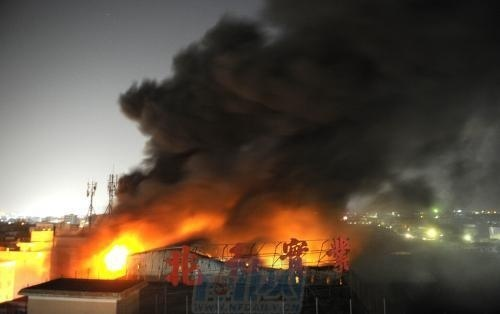fire: (93, 229, 143, 277), (261, 236, 330, 270)
